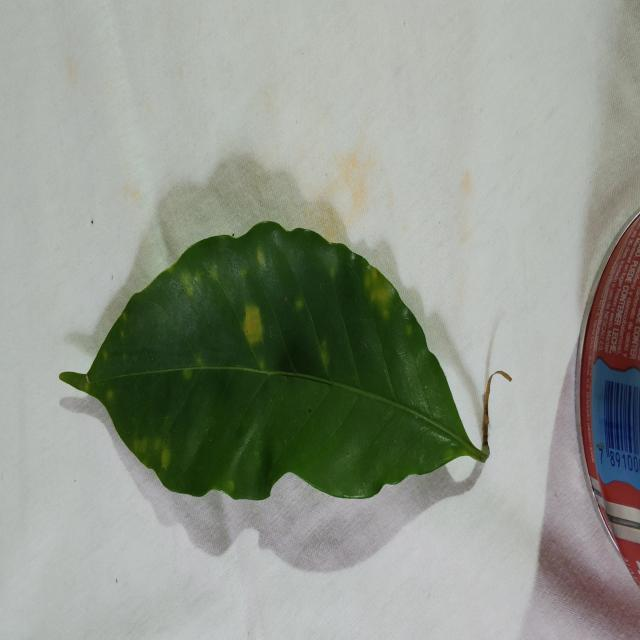Enfermedad-Roya: (58, 222, 490, 504)
